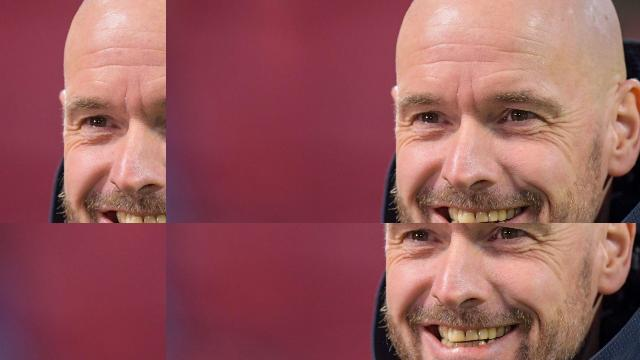chin: (82, 298, 91, 304)
crows_feet: (535, 230, 559, 260), (388, 236, 408, 262), (99, 244, 111, 254), (40, 252, 50, 264), (265, 14, 275, 24)
forehead: (44, 223, 60, 233), (61, 223, 77, 230), (247, 0, 258, 10), (225, 0, 233, 12), (235, 0, 244, 9), (83, 223, 99, 227)
frown_line: (66, 229, 74, 243), (237, 14, 243, 22)
gummy_smile: (401, 283, 427, 313), (84, 267, 100, 282), (55, 269, 65, 285), (253, 33, 263, 43)
masseter: (106, 258, 114, 276), (271, 50, 277, 60)
sad_smile: (520, 298, 546, 328), (95, 286, 103, 300), (56, 289, 64, 299)
